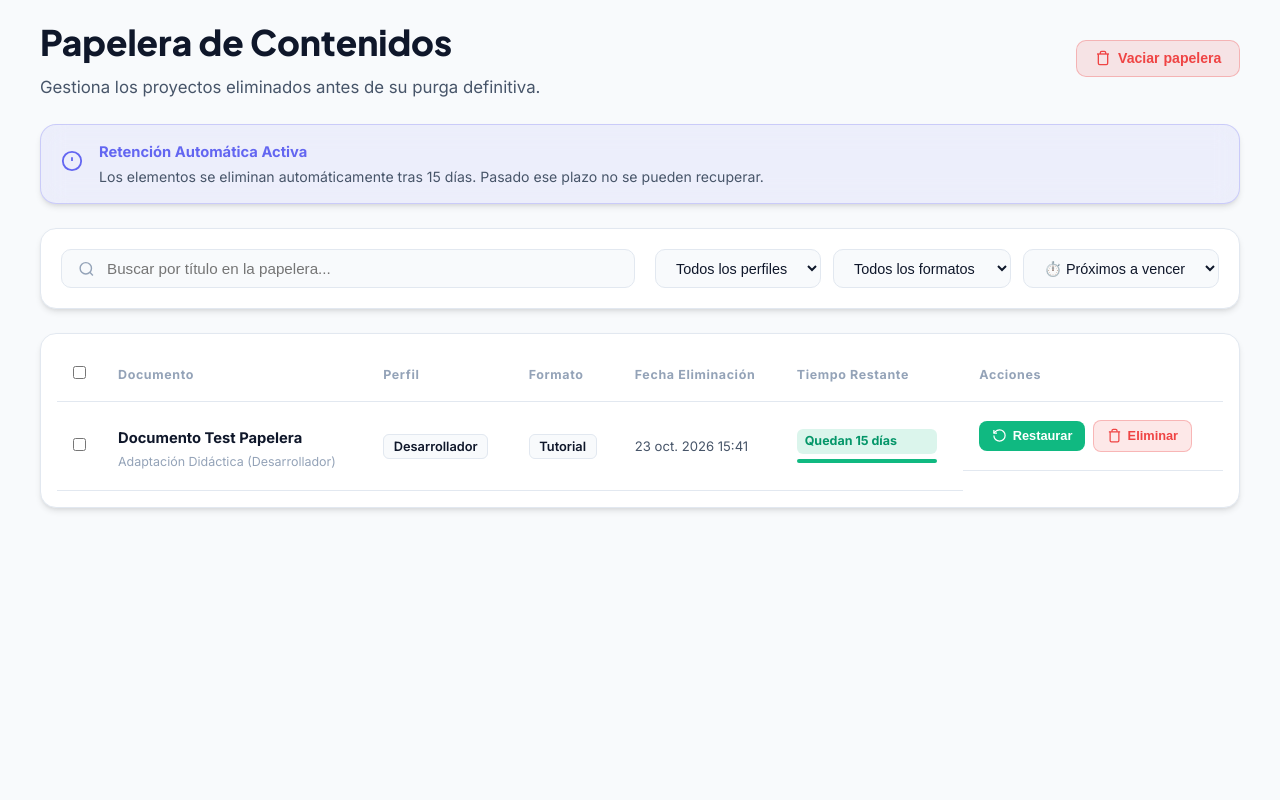
Test: TrashComponent › should open confirmation dialog when Eliminar definitivamente is clicked
Click the button with class "btn-delete-perm": (1143, 436) [1093,420,1192,452]
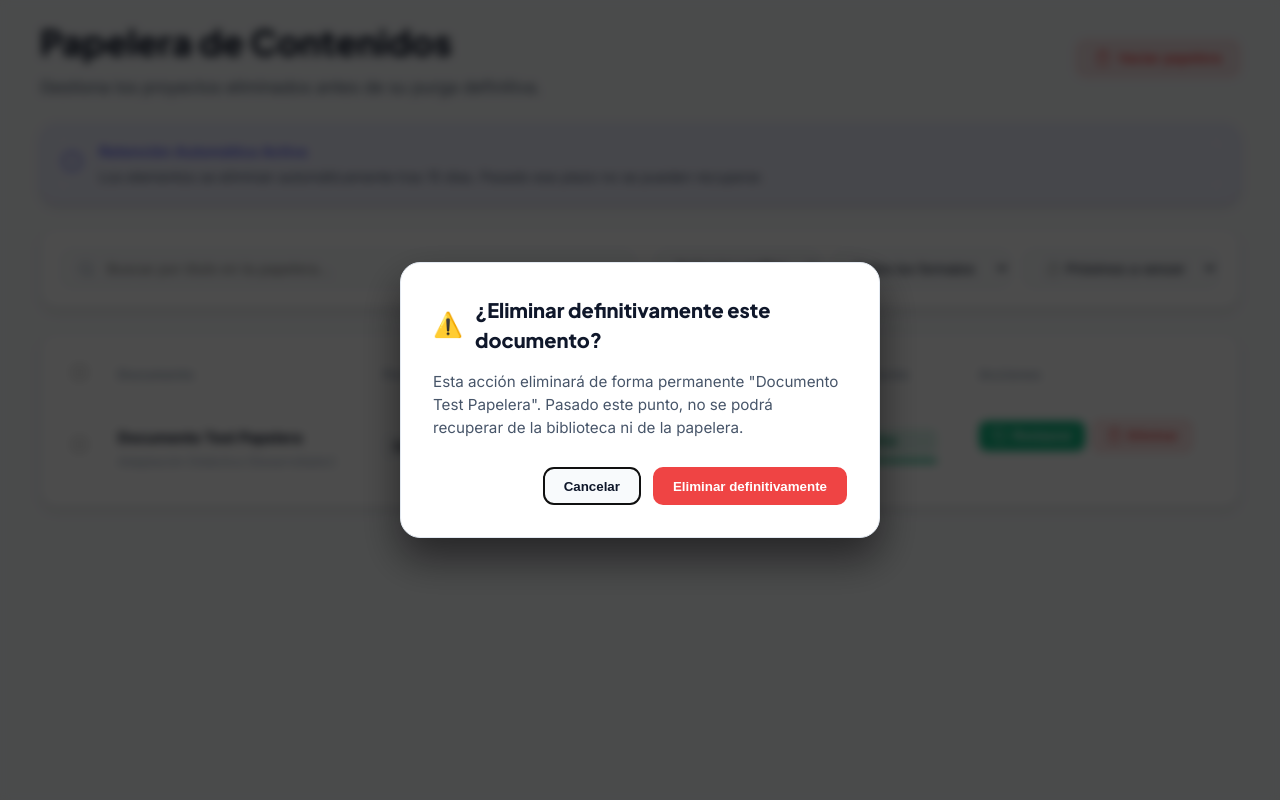
Expected: the heading "¿Eliminar definitivamente este documento?" is shown, [475,297,770,352]
